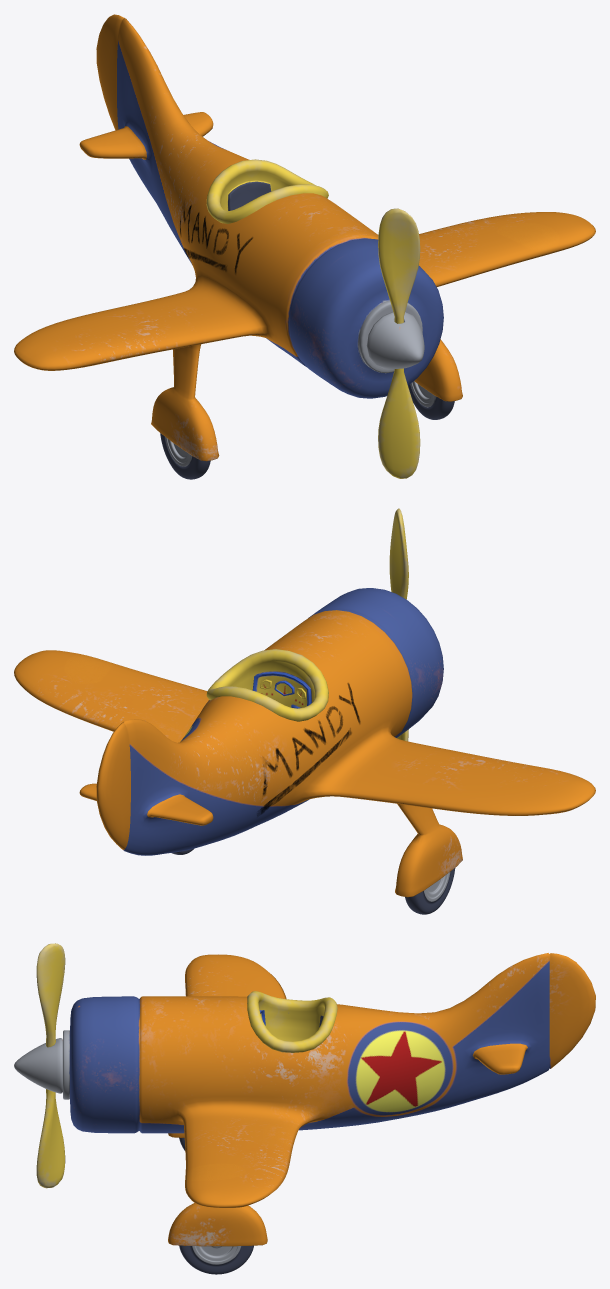
Rendered from cartoon_toy-plane.glb.
The picture shows the model from 3 angles, top to bottom: view 1: azimuth 30°, elevation 25°; view 2: azimuth 150°, elevation 25°; view 3: azimuth 270°, elevation 25°; orthographic projection. The views are drawn at different scales.
Visible parts, largest first — view 1: Airplane_low, Propeller_low, Seat_low, Nose_low, Tire_low; view 2: Airplane_low, Seat_low, Propeller_low, Tire_low; view 3: Airplane_low, Seat_low, Propeller_low, Nose_low, Tire_low.
Part boxes in pixels (<box>): Airplane_low: <box>14,14,595,461</box>; Propeller_low: <box>378,208,420,478</box>; Seat_low: <box>206,159,328,223</box>; Nose_low: <box>366,312,424,369</box>; Tire_low: <box>160,381,454,479</box>; Airplane_low: <box>14,588,595,897</box>; Seat_low: <box>206,649,328,721</box>; Propeller_low: <box>389,508,408,741</box>; Tire_low: <box>172,848,455,914</box>; Airplane_low: <box>63,953,595,1246</box>; Seat_low: <box>247,991,337,1052</box>; Propeller_low: <box>36,943,65,1188</box>; Nose_low: <box>14,1038,62,1093</box>; Tire_low: <box>179,1137,253,1274</box>.
Bounding box in the file's own units: 4.65 × 2.38 × 4.55.
2 materials, 2 textured.
